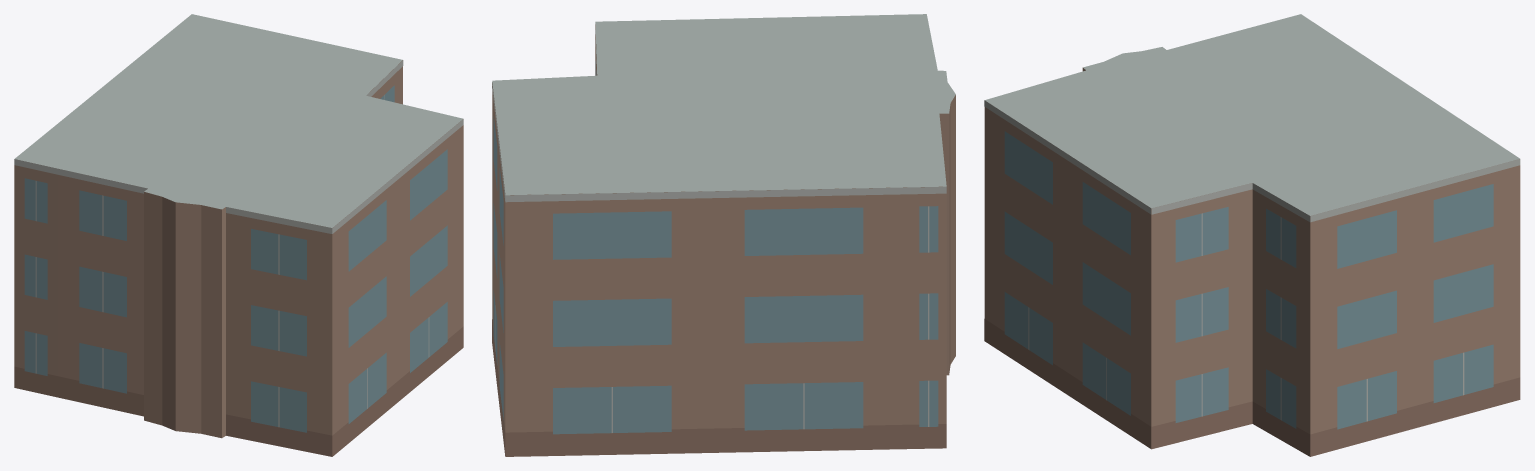
File: survey-upis-32614519.glb
The picture shows the model from 3 angles, left to right: view 1: azimuth 30°, elevation 25°; view 2: azimuth 150°, elevation 25°; view 3: azimuth 270°, elevation 25°; orthographic projection. The views are drawn at different scales.
Parts seen in each view (by area): view 1: survey-upis-32614519.tmp; view 2: survey-upis-32614519.tmp; view 3: survey-upis-32614519.tmp.
Part boxes in pixels (left/top/right/bottom): survey-upis-32614519.tmp: left=14, top=14, right=463, bottom=456; survey-upis-32614519.tmp: left=492, top=14, right=955, bottom=456; survey-upis-32614519.tmp: left=984, top=14, right=1520, bottom=456.
Size of the model in its own units: 16.46 by 9.15 by 18.45.
